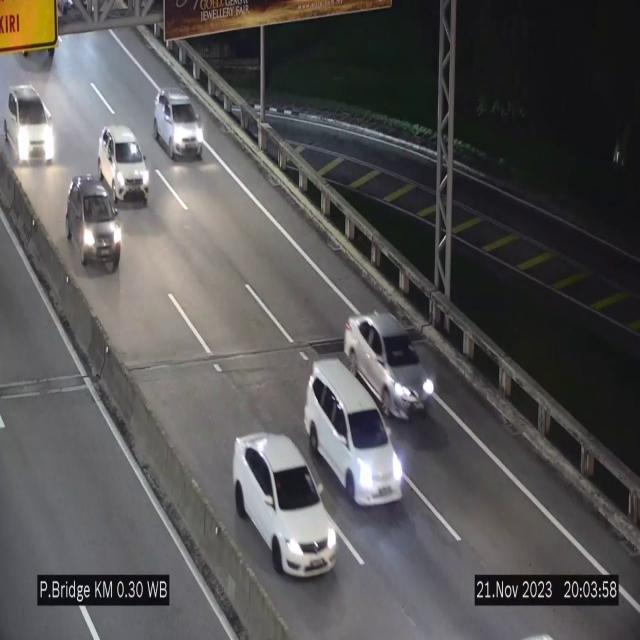Car: (232, 434, 338, 576), (304, 361, 406, 505), (344, 312, 436, 419), (66, 173, 120, 271), (4, 81, 54, 170), (98, 126, 150, 203), (154, 89, 204, 160)
